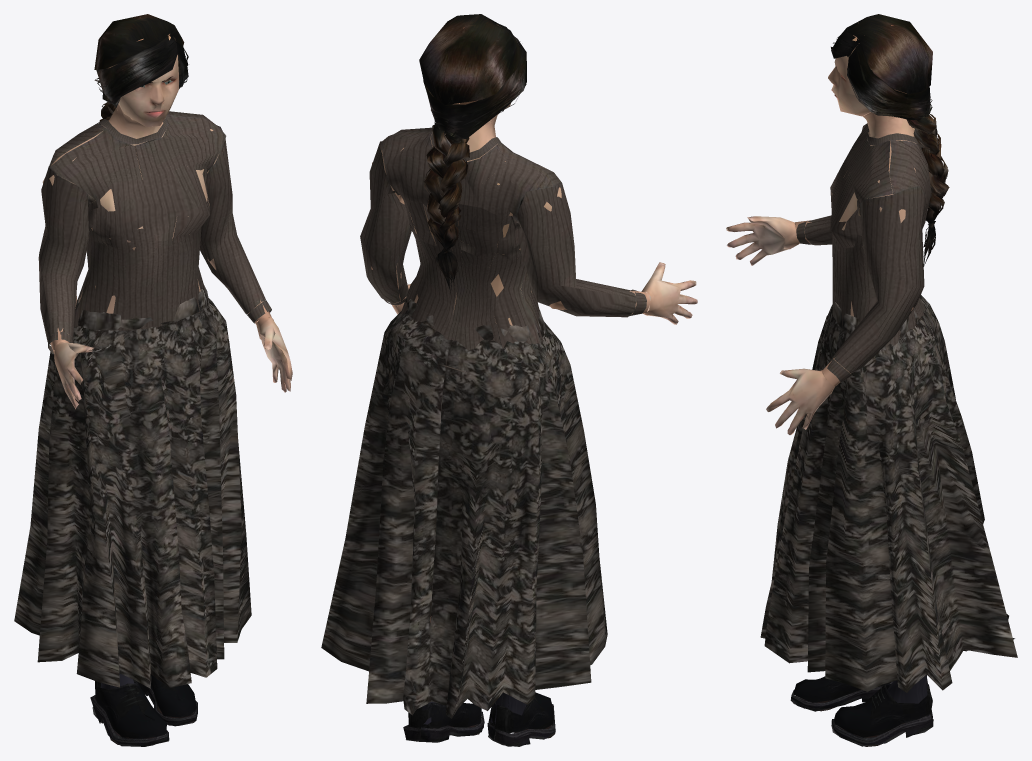
3 views of the same model, side by side, from view 1: azimuth 30°, elevation 25°; view 2: azimuth 150°, elevation 25°; view 3: azimuth 270°, elevation 25° (orthographic). The views are drawn at different scales.
Visible parts, largest first — view 1: Modell; view 2: Modell; view 3: Modell.
Boxes of the visible parts, x1,y1,x2,y2 form: Modell: (14,14,292,746); Modell: (321,14,697,746); Modell: (726,14,1017,746).
Bounding box in the file's own units: 0.5997 × 1.57 × 0.5871.
Materials: 7 (7 with a texture image).
